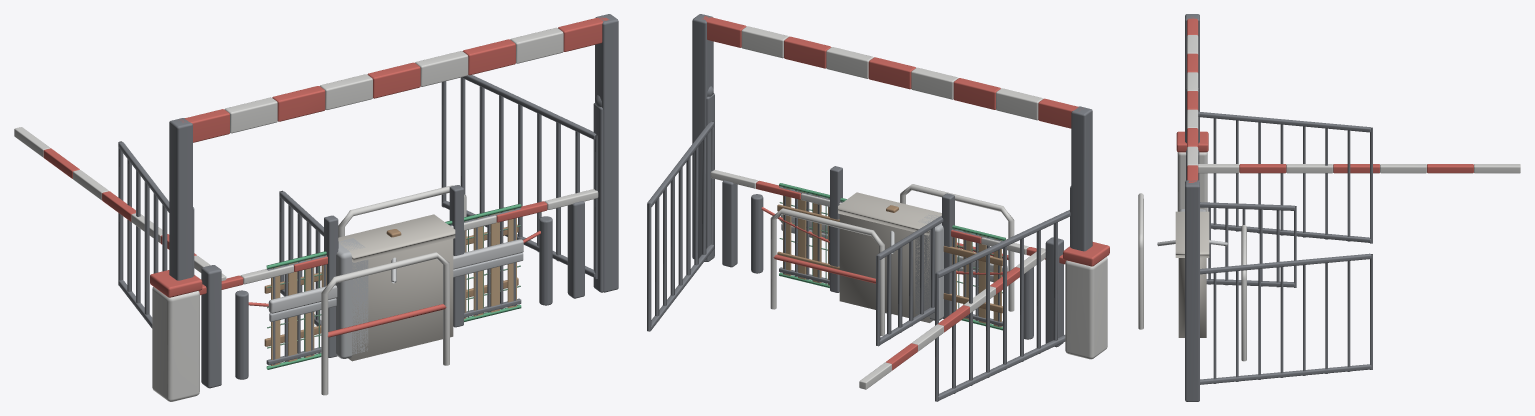
Rendered from barriers.glb.
3 views of the same model, side by side, from view 1: azimuth 30°, elevation 25°; view 2: azimuth 150°, elevation 25°; view 3: azimuth 270°, elevation 25° (orthographic). The views are drawn at different scales.
Visible parts, largest first — view 1: height_bar, gate, wall_block, lift_gate, swing_gate, gate_small, cycle_barrier, fence_panel_wood, turnstile, guard_rail_panel, fence_panel_bars, chain_posts (+1 smaller); view 2: height_bar, gate, wall_block, lift_gate, gate_small, swing_gate, cycle_barrier, fence_panel_wood, chain_posts, fence_panel_bars, turnstile, fence_panel_mesh (+1 smaller); view 3: gate, height_bar, swing_gate, gate_small, wall_block, cycle_barrier, lift_gate.
Boxes of the visible parts, x1=… form: height_bar: x1=169, y1=14, x2=618, y2=292; gate: x1=118, y1=75, x2=603, y2=328; wall_block: x1=338, y1=214, x2=455, y2=361; lift_gate: x1=150, y1=189, x2=598, y2=401; swing_gate: x1=14, y1=127, x2=584, y2=388; gate_small: x1=279, y1=185, x2=463, y2=357; cycle_barrier: x1=321, y1=185, x2=466, y2=395; fence_panel_wood: x1=264, y1=208, x2=518, y2=365; turnstile: x1=336, y1=238, x2=396, y2=358; guard_rail_panel: x1=268, y1=239, x2=523, y2=321; fence_panel_bars: x1=266, y1=208, x2=521, y2=365; chain_posts: x1=235, y1=216, x2=552, y2=379; height_bar: x1=692, y1=14, x2=1092, y2=261; gate: x1=647, y1=86, x2=1071, y2=401; wall_block: x1=838, y1=192, x2=941, y2=322; lift_gate: x1=710, y1=169, x2=1109, y2=359; gate_small: x1=830, y1=166, x2=954, y2=346; swing_gate: x1=722, y1=180, x2=1063, y2=389; cycle_barrier: x1=770, y1=184, x2=1014, y2=335; fence_panel_wood: x1=777, y1=187, x2=1002, y2=327; chain_posts: x1=751, y1=194, x2=1033, y2=339; fence_panel_bars: x1=779, y1=186, x2=1002, y2=326; turnstile: x1=890, y1=214, x2=943, y2=320; fence_panel_mesh: x1=779, y1=183, x2=1005, y2=330; gate: x1=1186, y1=88, x2=1372, y2=384; height_bar: x1=1185, y1=14, x2=1199, y2=401; swing_gate: x1=1186, y1=150, x2=1520, y2=180; gate_small: x1=1200, y1=202, x2=1296, y2=287; wall_block: x1=1175, y1=211, x2=1209, y2=337; cycle_barrier: x1=1138, y1=193, x2=1246, y2=361; lift_gate: x1=1176, y1=131, x2=1208, y2=211.
Bounding box in the file's own units: 4.5 × 2.6 × 4.08.
